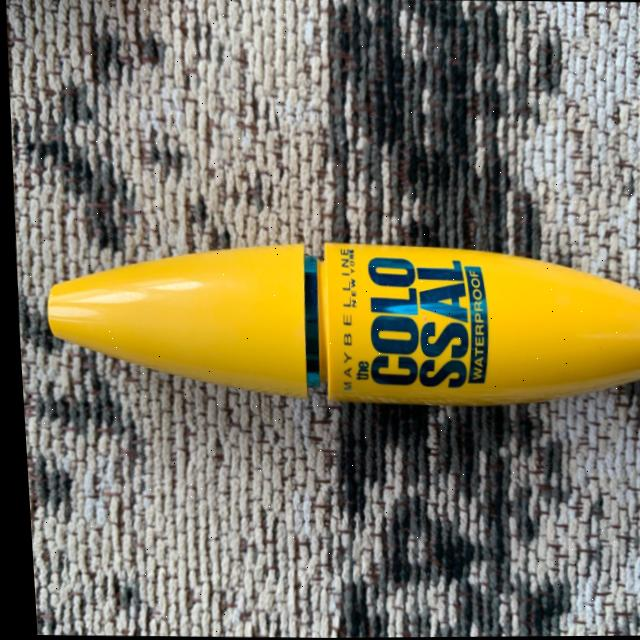mascara: (18, 178, 640, 445)
